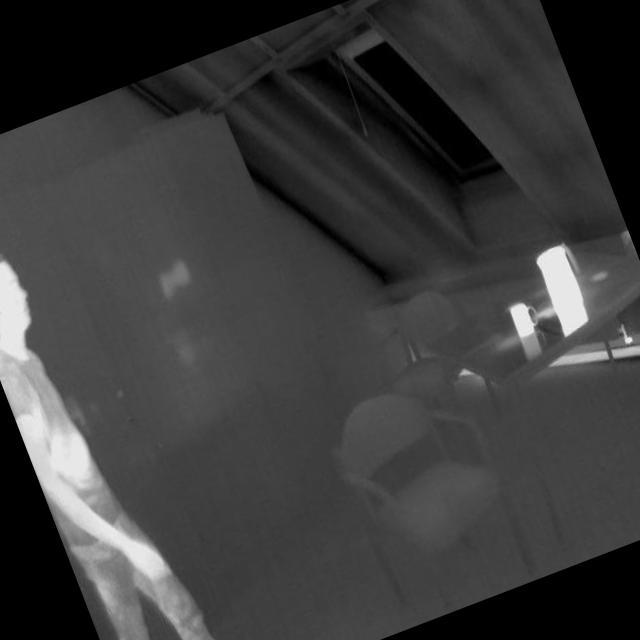person: (0, 212, 270, 640)
